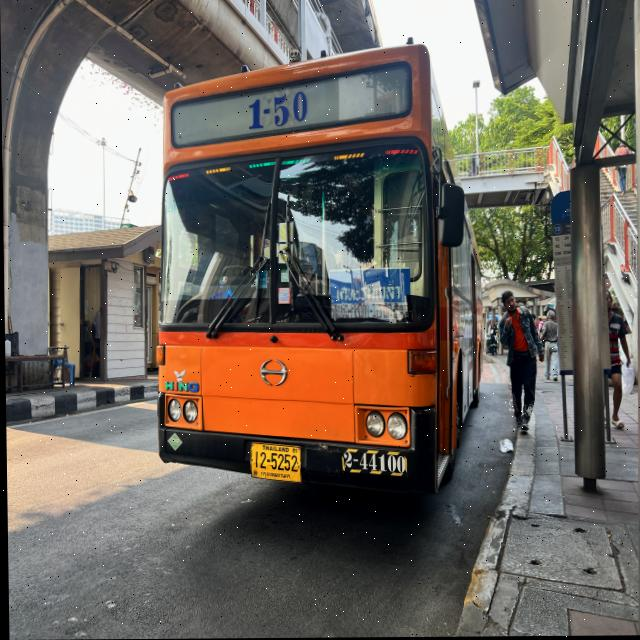BMTA-bus: (154, 42, 482, 498)
Bus Line Number: (244, 86, 314, 138)
Bus Side Number: (338, 448, 406, 477)
Destination Sign: (329, 270, 410, 323)
